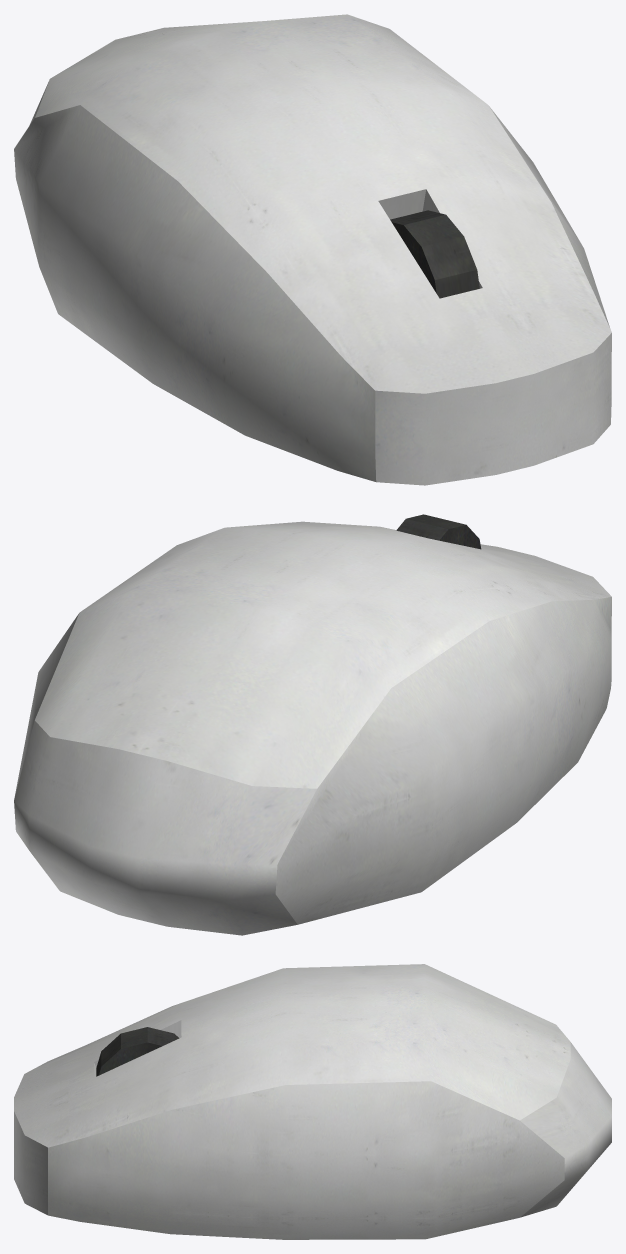
File: Mouse.fbx
3 renders of one model, top to bottom at view 1: azimuth 30°, elevation 25°; view 2: azimuth 150°, elevation 25°; view 3: azimuth 270°, elevation 25°, orthographic. The views are drawn at different scales.
Visible parts, largest first — view 1: polySurface1088; view 2: polySurface1088; view 3: polySurface1088.
Part boxes in pixels (left/top/right/bottom): polySurface1088: left=14, top=14, right=611, bottom=485; polySurface1088: left=14, top=514, right=611, bottom=935; polySurface1088: left=14, top=964, right=611, bottom=1239.
Bounding box in the file's own units: 0.0533 × 0.0315 × 0.0946.
1 material, 1 textured.
